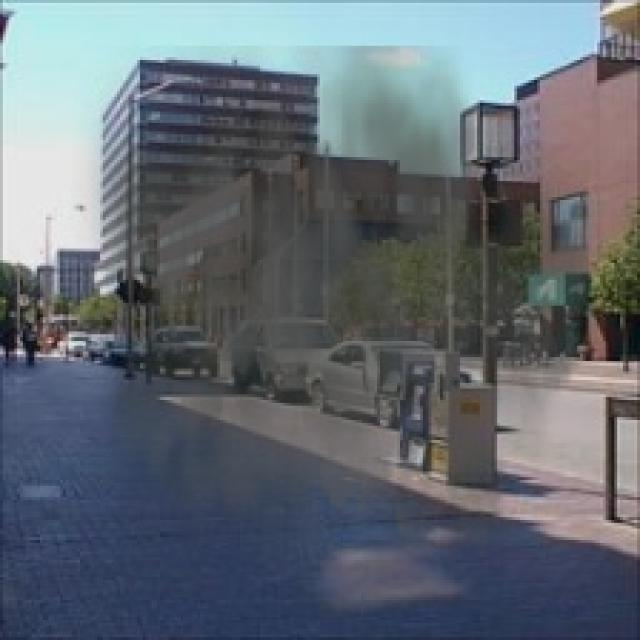Smoke: (71, 46, 588, 612)
